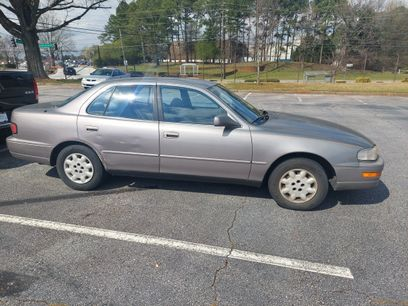car: (6, 72, 386, 210)
